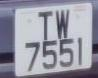1: (74, 35, 86, 70)
5: (39, 39, 61, 72), (57, 37, 77, 70)
7: (22, 40, 41, 73)
T: (35, 7, 57, 44)
W: (53, 6, 73, 43)
